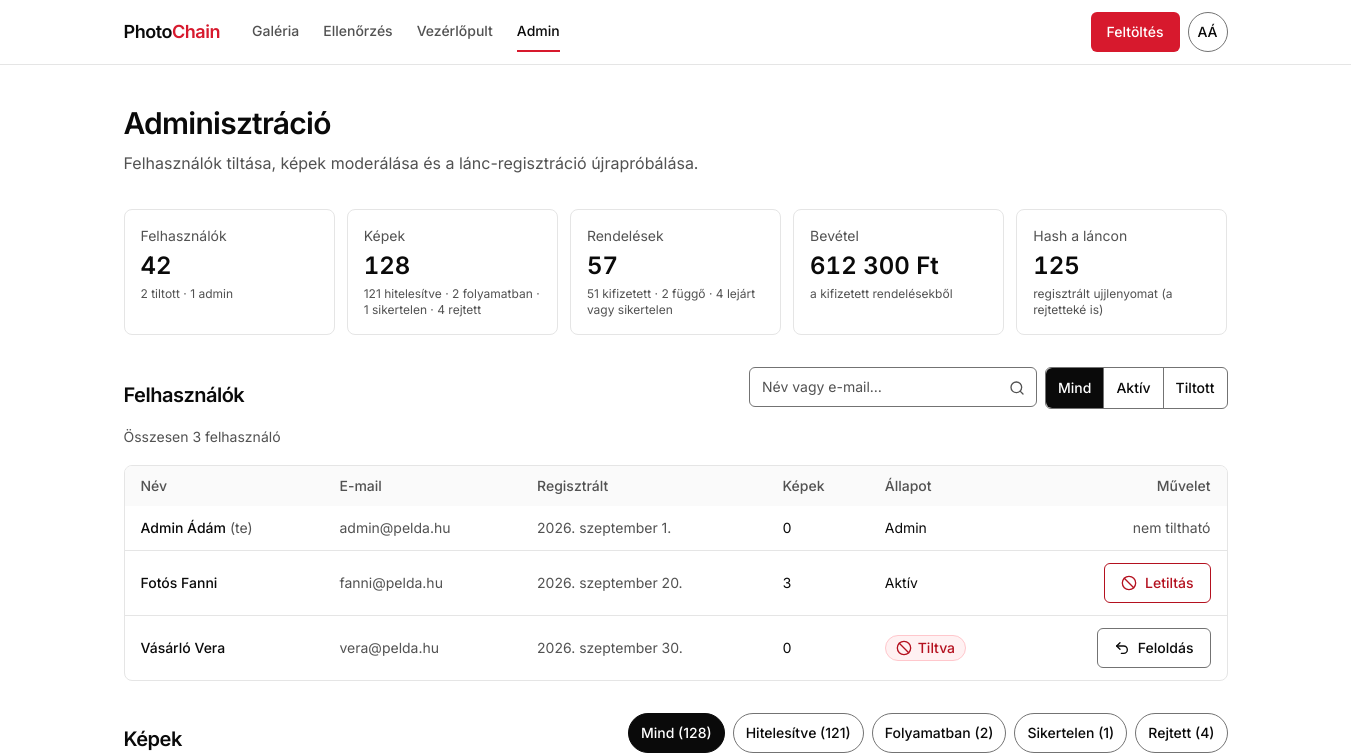
AdminPage – nézet az URL-ben › a tiltási szűrő kapcsológombjai: Tiltott → aria-pressed, az URL-ben és a kérésben blocked=true; a lista frissülése után a fókusz a találatszámra
This screenshot has width=1366, height=754.
Expected: the text "Összesen 3 felhasználó" is shown, [124,428,280,445]
Click the button "Tiltott" at x=1194, y=388, box [1162,368,1226,408]
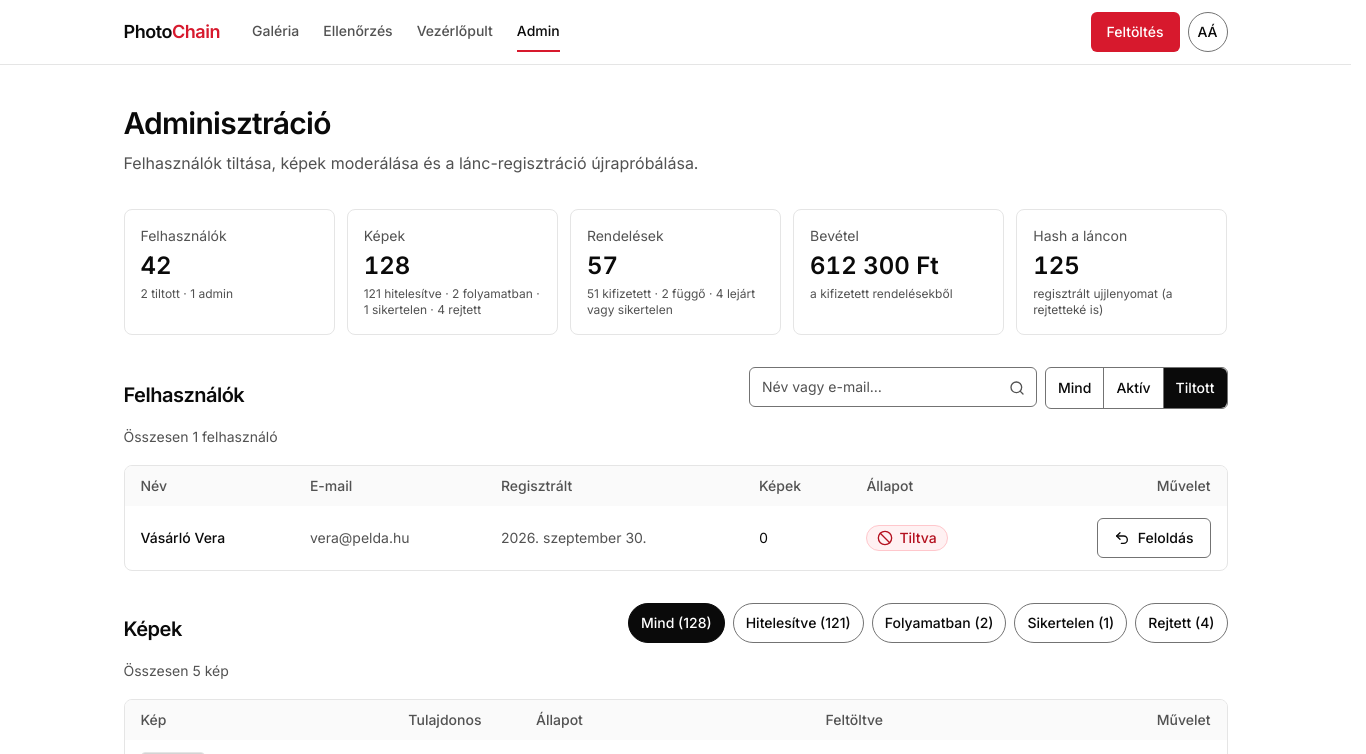
Now the text "Összesen 1 felhasználó" is shown, box [124,428,278,445]
